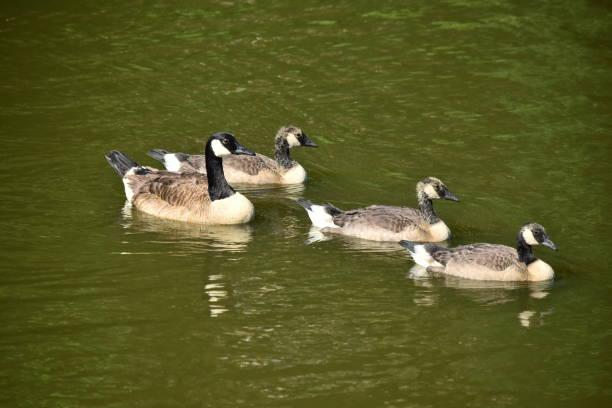Canadian-Goose: (104, 130, 253, 226), (298, 175, 461, 246), (397, 223, 558, 290), (148, 121, 316, 183)
